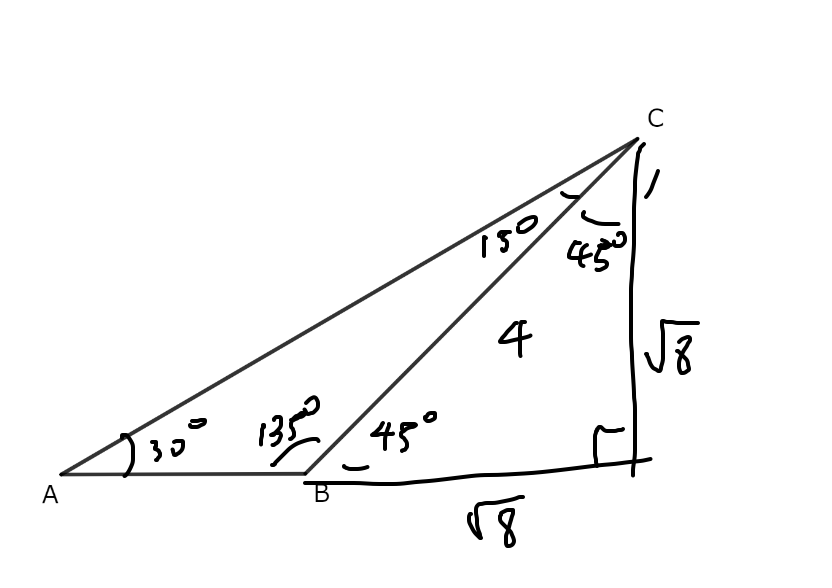Angle_Right: (587, 421, 629, 463), (554, 186, 583, 199)
Angle_Scurve: (268, 436, 323, 471), (115, 429, 133, 480), (578, 206, 623, 226), (341, 458, 372, 472)
